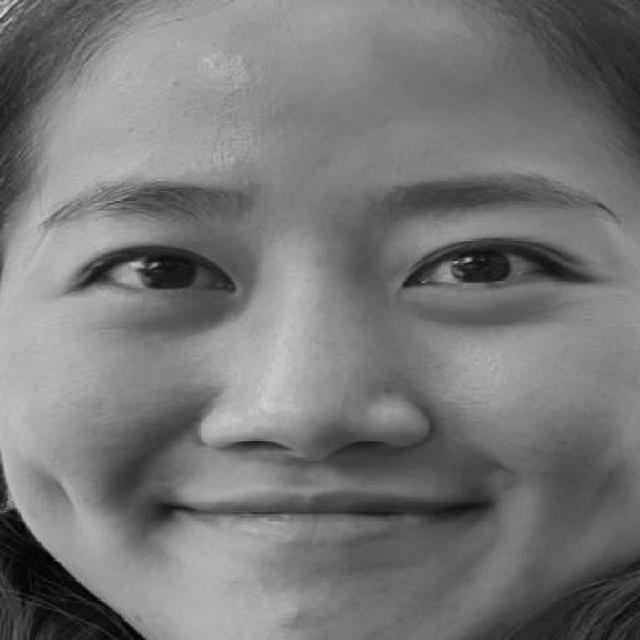happy: (38, 162, 625, 573)
